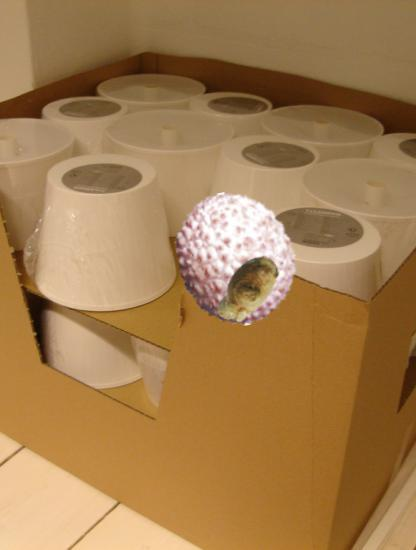Ginger: (209, 251, 287, 329)
Lychee: (169, 191, 305, 327)
